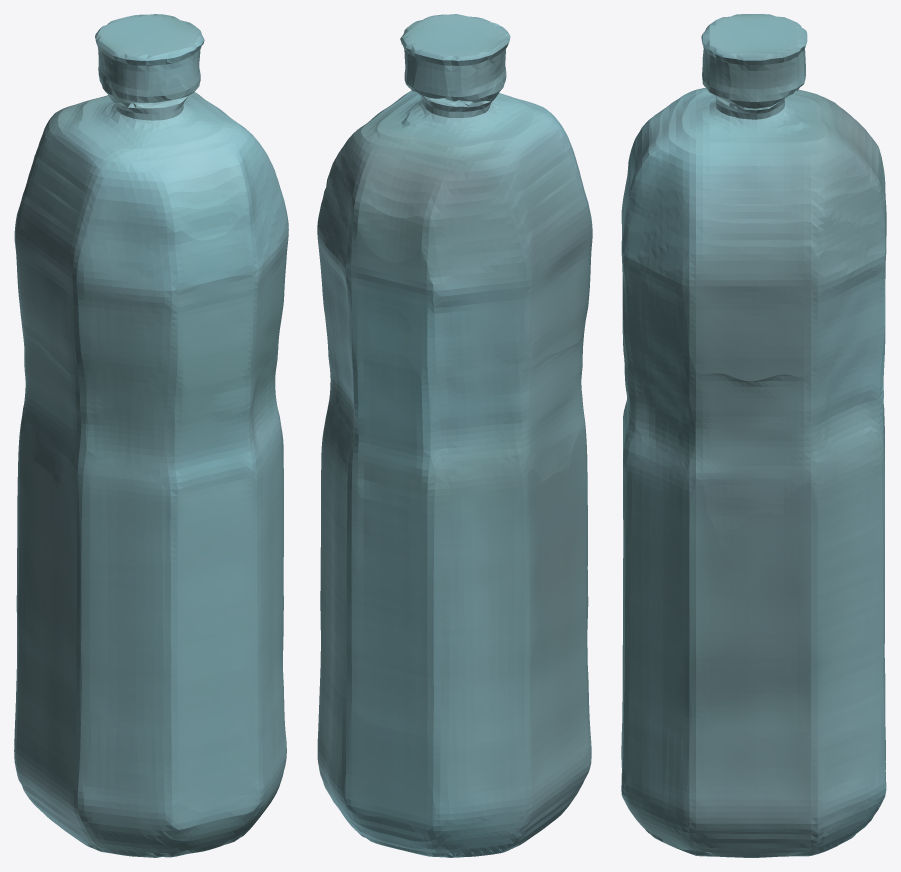
The picture shows the model from 3 angles, left to right: view 1: azimuth 30°, elevation 25°; view 2: azimuth 150°, elevation 25°; view 3: azimuth 270°, elevation 25°; orthographic projection.
Parts seen in each view (by area): view 1: tmpijzlzz7i.ply; view 2: tmpijzlzz7i.ply; view 3: tmpijzlzz7i.ply.
Part boxes in pixels (left/top/right/bottom): tmpijzlzz7i.ply: left=14, top=14, right=288, bottom=857; tmpijzlzz7i.ply: left=317, top=14, right=592, bottom=857; tmpijzlzz7i.ply: left=621, top=14, right=886, bottom=857.
Size of the model in its own units: 0.5697 by 1.98 by 0.6093.
